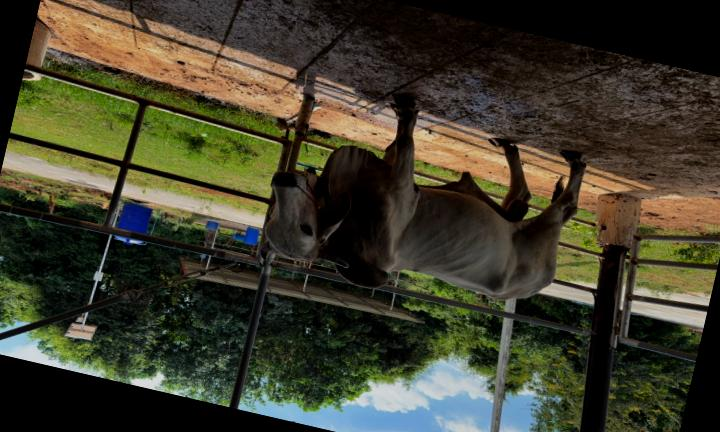Brahman: (260, 96, 586, 300)
